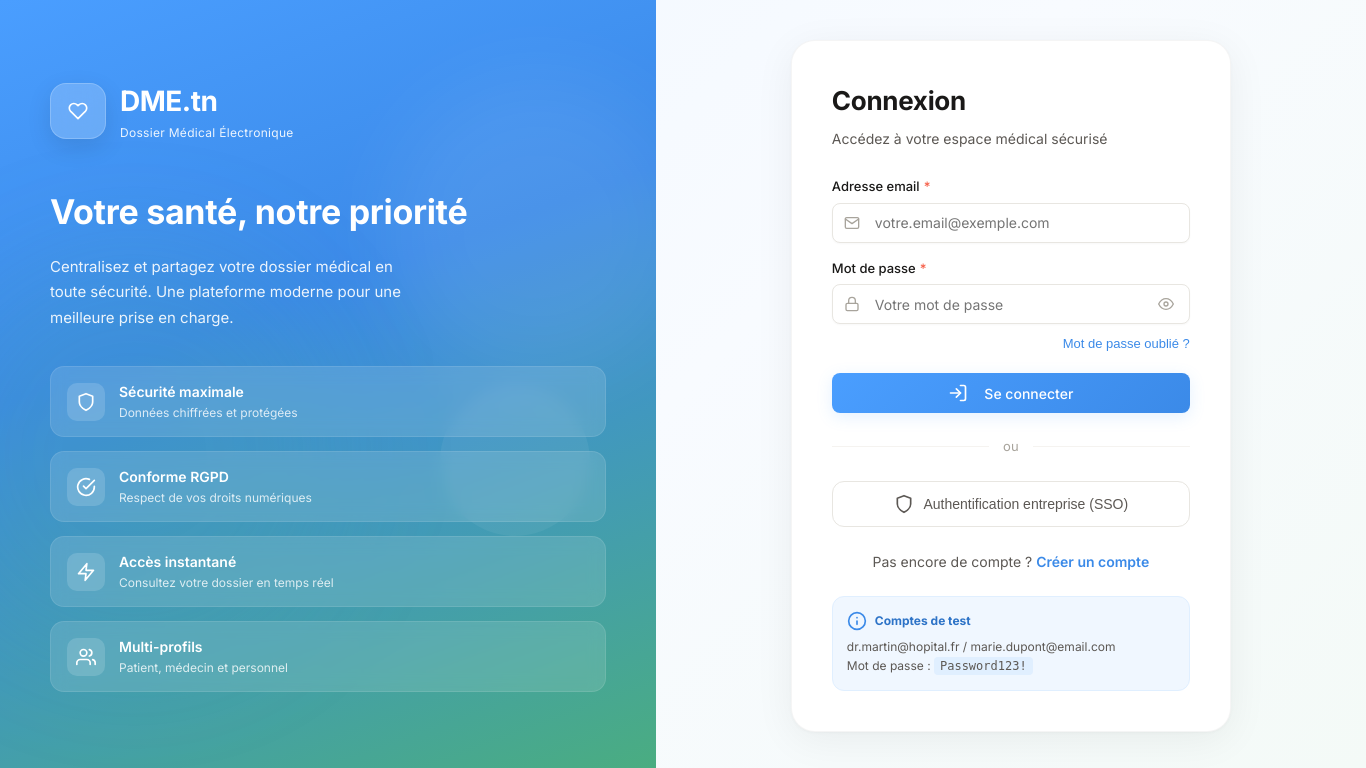
DME - Authentication flows › shows validation error when submitting empty form
The width and height of the screenshot is (1366, 768).
Click the submit button at (1011, 393), box [832,373,1190,413]
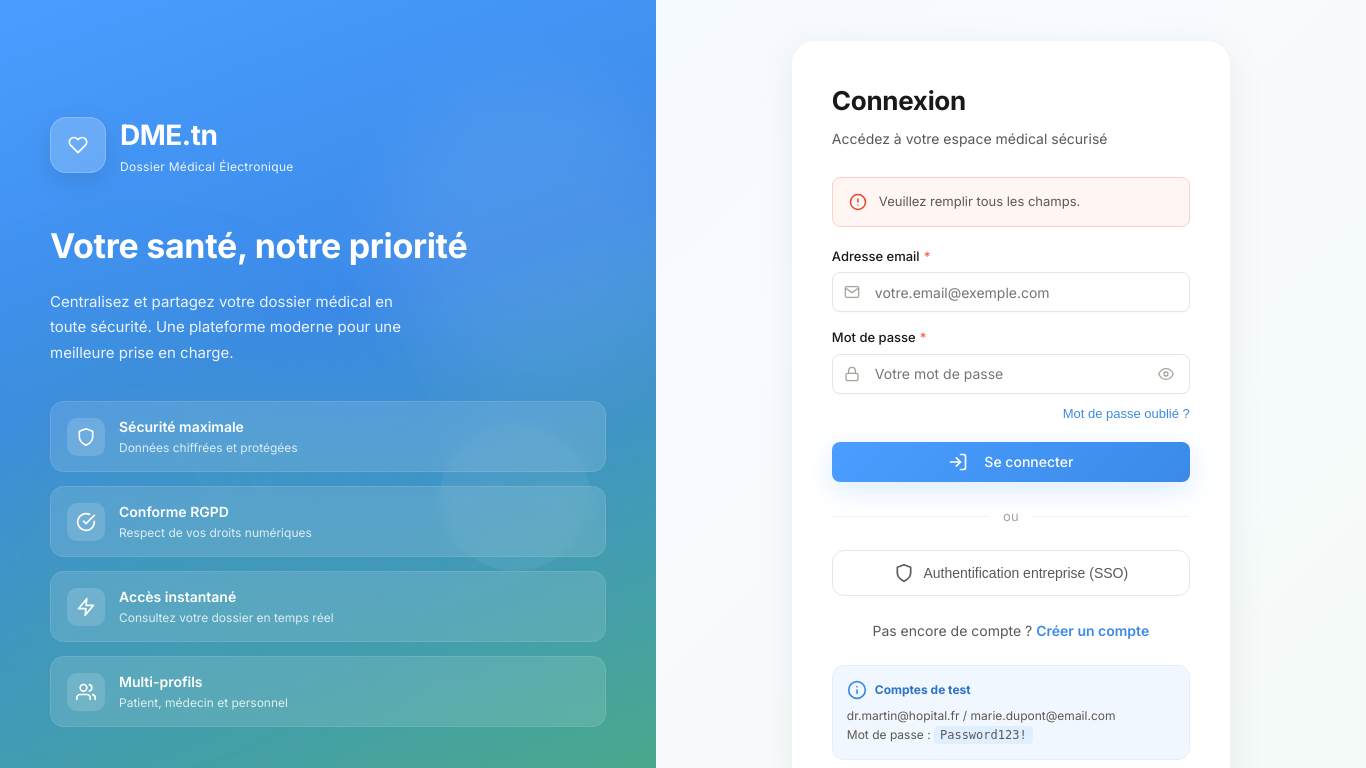
Expected: the text "Veuillez remplir tous les champs" is shown, [879,193,1080,209]
